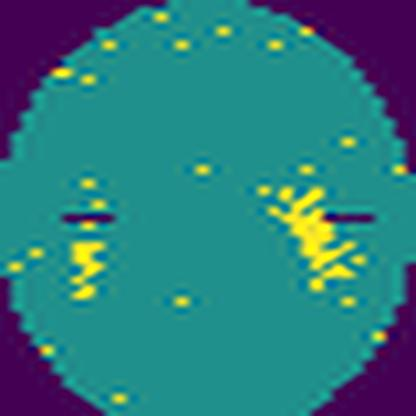Edge-Loc: (264, 183, 358, 294), (68, 236, 106, 304)
